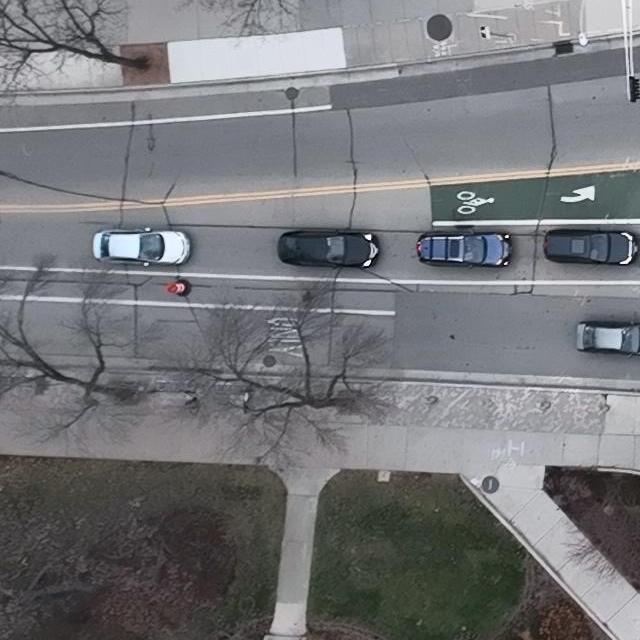car: (277, 231, 380, 271), (92, 226, 192, 267), (543, 227, 639, 266), (416, 231, 512, 268), (576, 321, 640, 358)
